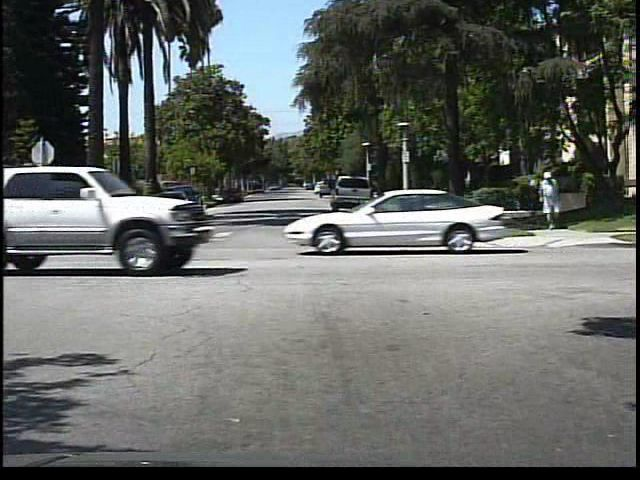person: (535, 171, 563, 233)
